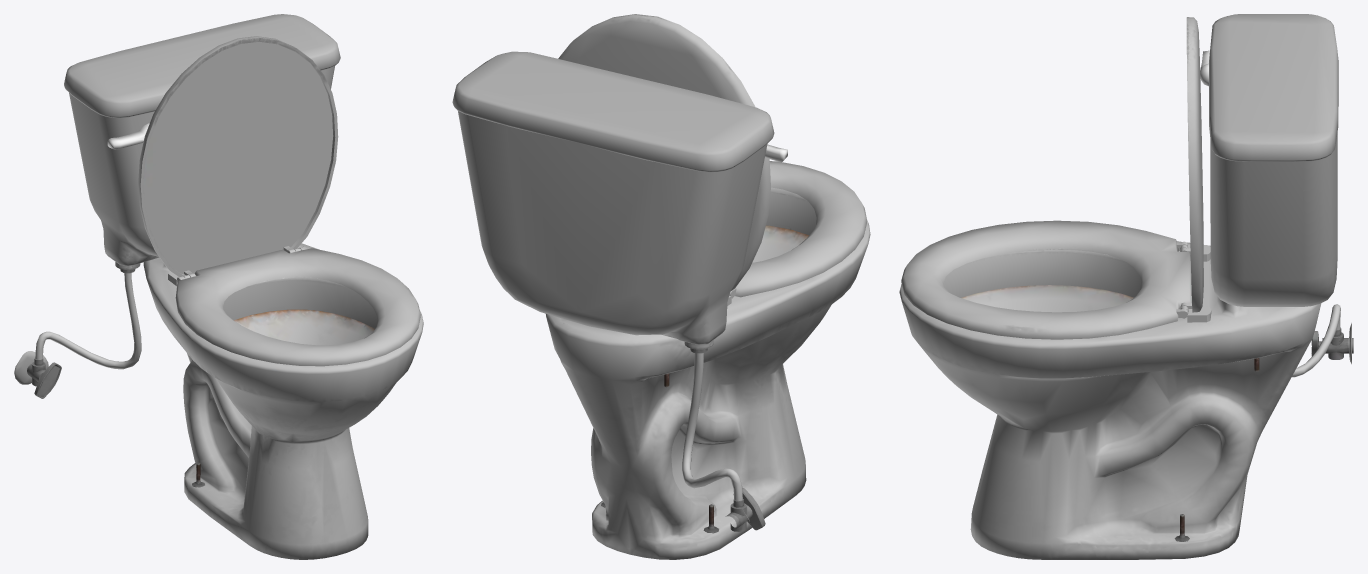
3 views of the same model, side by side, from view 1: azimuth 30°, elevation 25°; view 2: azimuth 150°, elevation 25°; view 3: azimuth 270°, elevation 25° (orthographic). The views are drawn at different scales.
Visible parts, largest first — view 1: Toilet_Toilet_0; view 2: Toilet_Toilet_0; view 3: Toilet_Toilet_0.
Part boxes in pixels (x1,y1,x2,y2): Toilet_Toilet_0: (14, 14, 423, 559); Toilet_Toilet_0: (452, 14, 870, 559); Toilet_Toilet_0: (899, 14, 1353, 559).
Bounding box in the file's own units: 0.4783 × 0.7435 × 0.607.
1 material, 1 textured.
